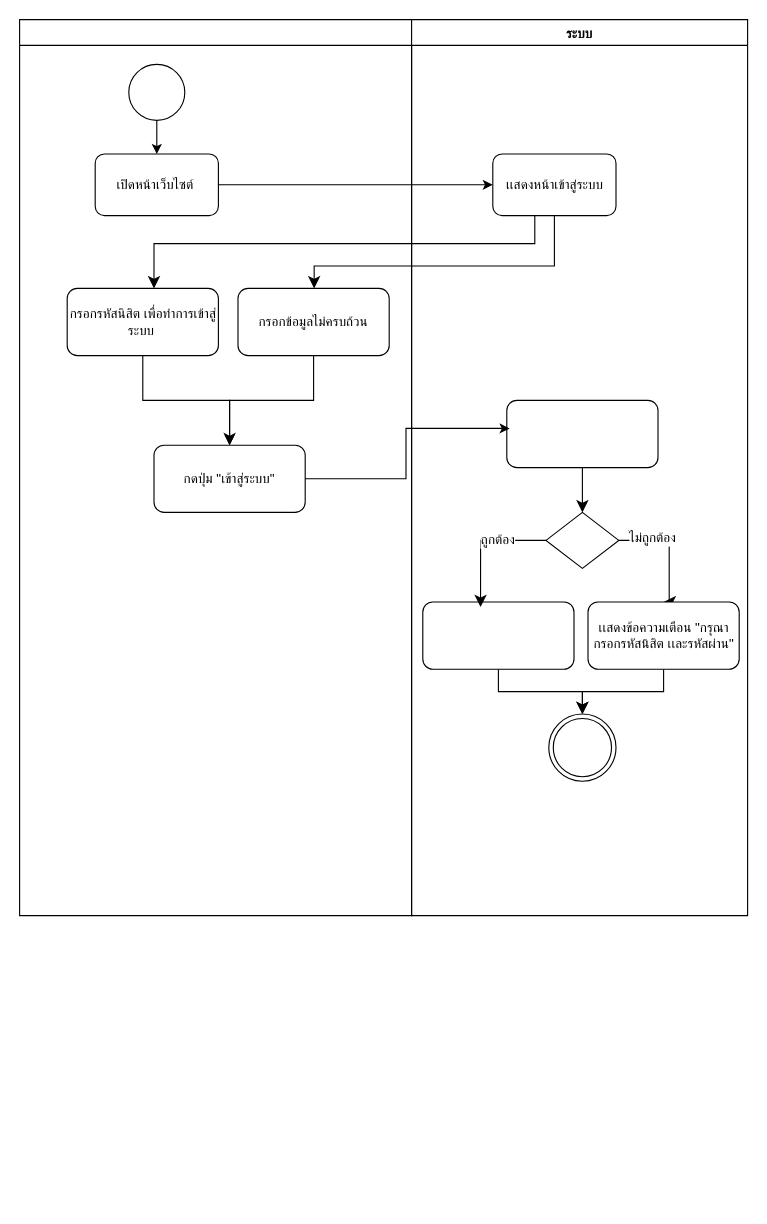
This 767x1224 diagram has some shape labels left out. Each missing label, with the box of its shape:
ผู้ใช้งาน: (18, 18, 412, 916)
ระบบตรวจสอบข้อมูล: (506, 399, 658, 468)
เเสดงหน้า Dashboard เเละ ชื่อ นาสกุลจริง: (422, 601, 574, 669)
